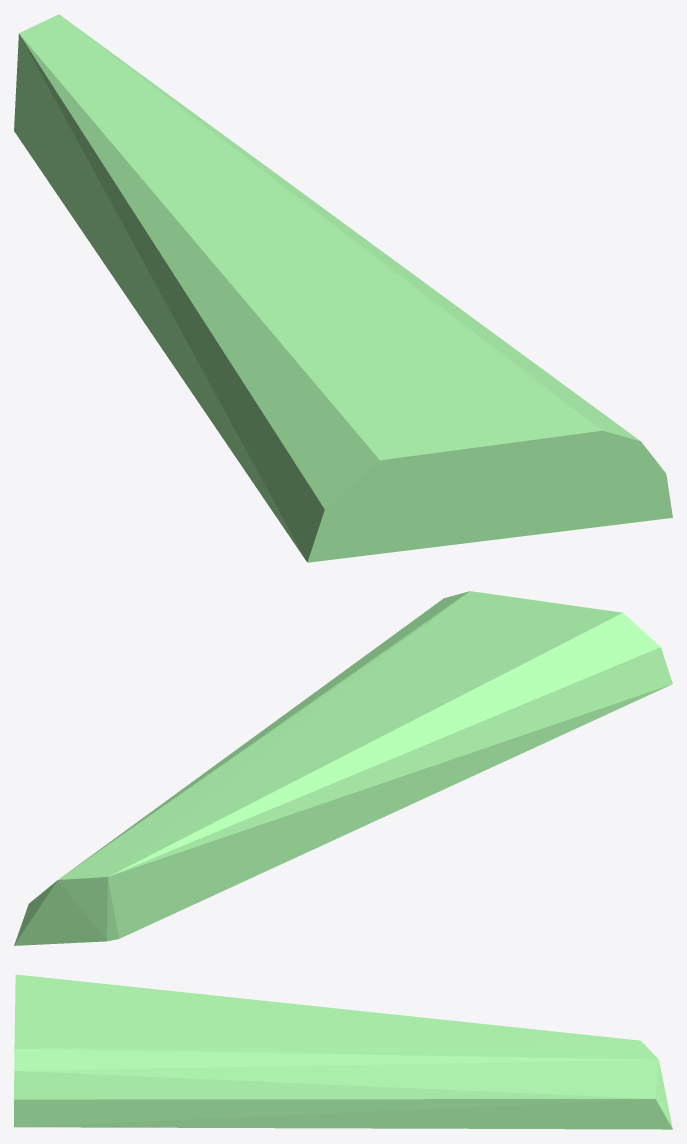
File: UMIRobot_UMIRobot_link_3_convex_coll_16.dae
3 views of the same model, one above another, from view 1: azimuth 30°, elevation 25°; view 2: azimuth 150°, elevation 25°; view 3: azimuth 270°, elevation 25° (orthographic). The views are drawn at different scales.
Visible parts, largest first — view 1: node; view 2: node; view 3: node.
Part boxes in pixels (x1,y1,x2,y2): node: (14,14,672,562); node: (14,591,672,945); node: (14,974,672,1129).
Size of the model in its own units: 0.0406 by 0.0135 by 0.1105.
